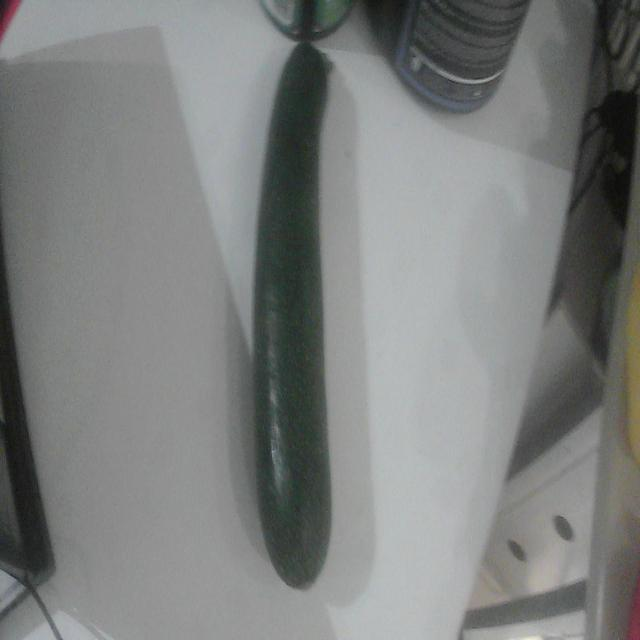Courgette: (254, 43, 331, 588)
